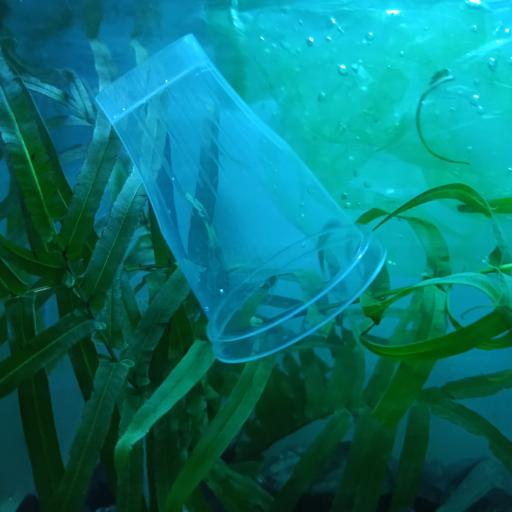plastic_bag: (202, 0, 512, 265)
plastic_cup: (92, 32, 390, 363)
